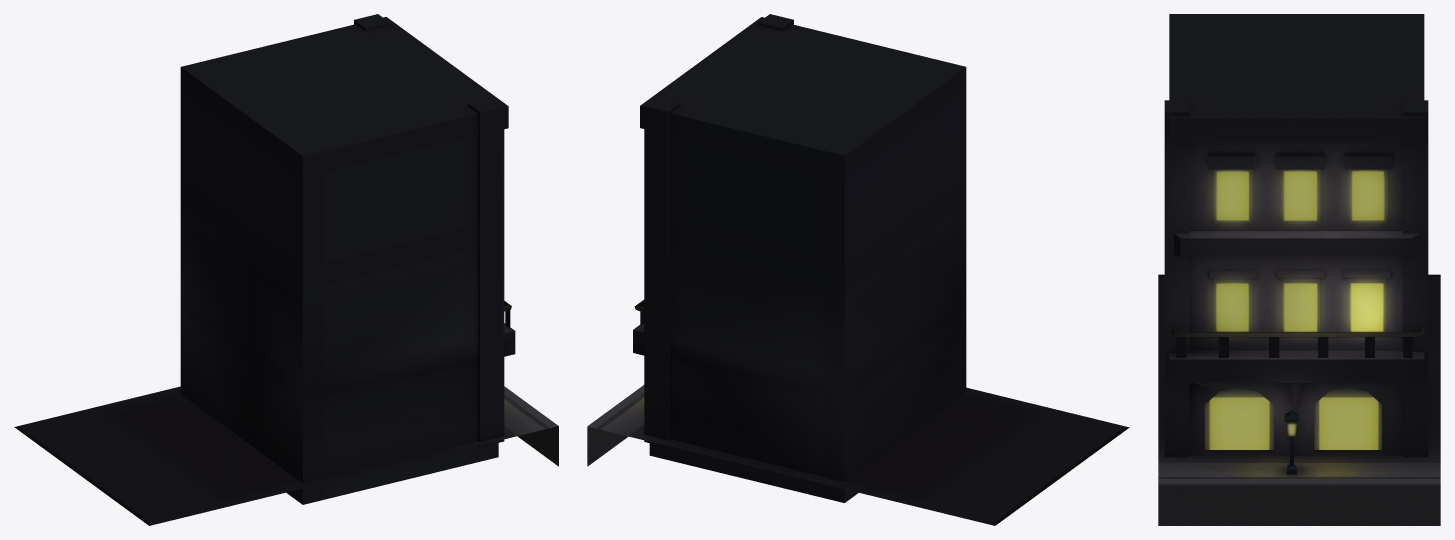
3 renders of one model, left to right at view 1: azimuth 30°, elevation 25°; view 2: azimuth 150°, elevation 25°; view 3: azimuth 270°, elevation 25°, orthographic. The views are drawn at different scales.
Parts seen in each view (by area): view 1: modelB001; view 2: modelB001; view 3: modelB001.
Part boxes in pixels (left/top/right/bottom): modelB001: left=14, top=14, right=558, bottom=525; modelB001: left=587, top=14, right=1129, bottom=525; modelB001: left=1158, top=14, right=1440, bottom=525.
Size of the model in its own units: 276 by 238 by 157.
1 material, 1 textured.
